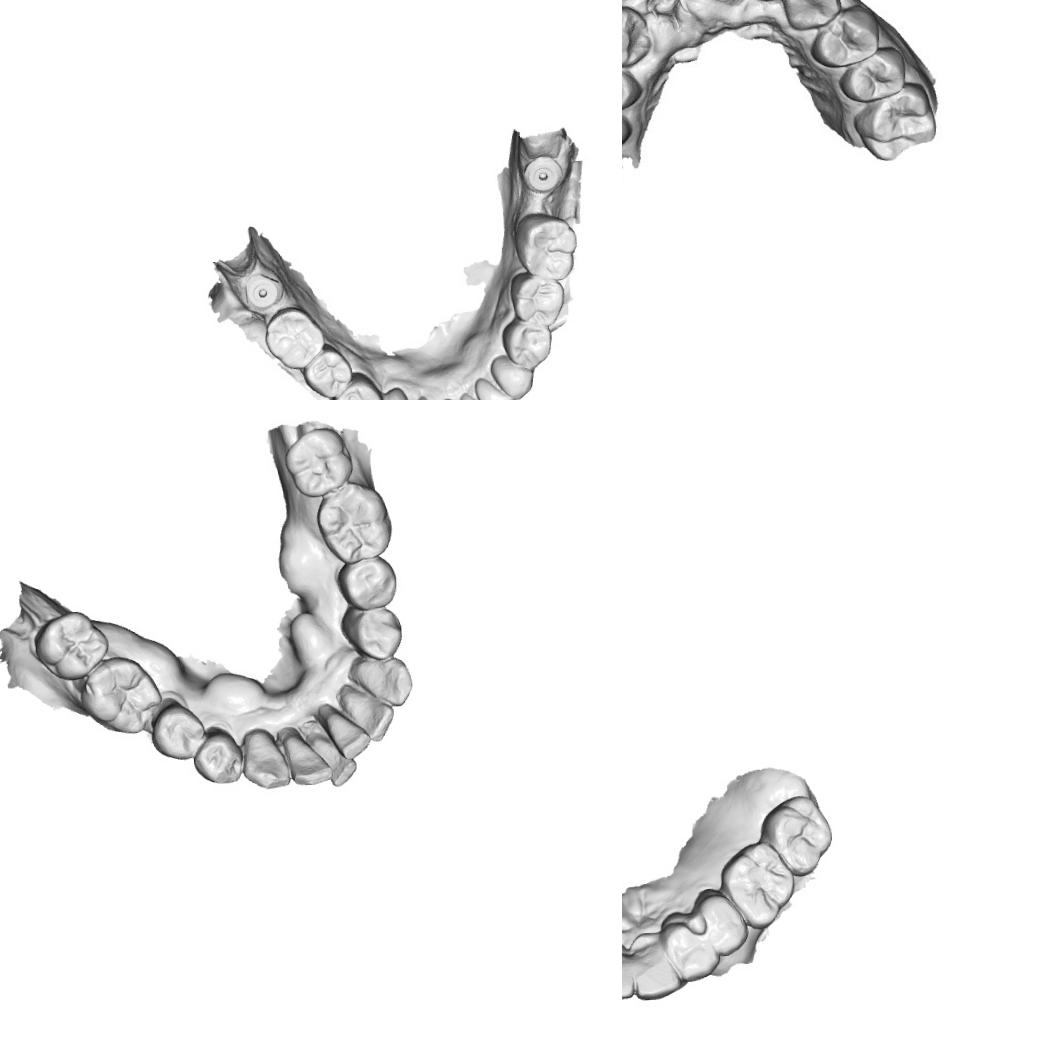canine: (350, 651, 414, 710), (238, 728, 294, 790), (632, 948, 682, 1001), (488, 352, 534, 400), (622, 0, 653, 69), (781, 0, 837, 33), (371, 384, 413, 400)
implant: (520, 153, 564, 194), (244, 270, 284, 310)
incisor: (340, 686, 396, 745), (282, 728, 334, 788), (322, 708, 373, 762), (310, 732, 358, 788), (473, 374, 515, 400), (622, 957, 635, 1001), (458, 390, 492, 400)
molar: (846, 80, 945, 168), (76, 652, 164, 736), (717, 838, 796, 931), (313, 480, 392, 569), (31, 606, 112, 682), (758, 791, 832, 869), (282, 422, 355, 500), (511, 209, 579, 280), (261, 304, 327, 370), (507, 266, 566, 328)
premolar: (808, 4, 883, 75), (336, 598, 408, 664), (837, 47, 910, 108), (331, 551, 402, 613), (657, 916, 720, 984), (692, 885, 750, 958), (147, 700, 207, 764), (190, 727, 246, 788), (500, 314, 554, 370), (301, 343, 353, 400), (330, 370, 384, 400), (622, 54, 643, 115)
